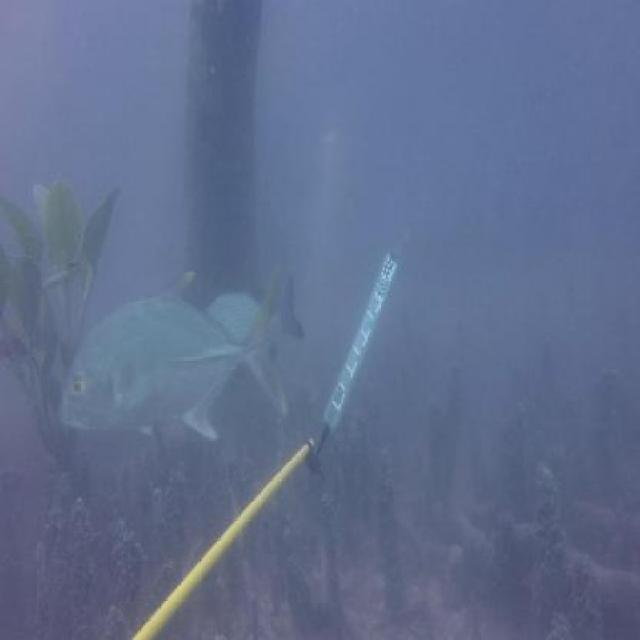Caranx: (58, 263, 292, 449)
acanthopagrus_palmaris: (208, 275, 308, 359)
